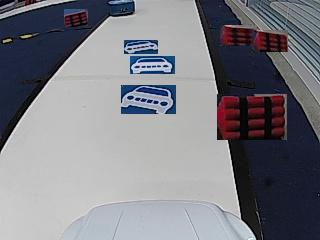prop: (108, 1, 134, 17)
